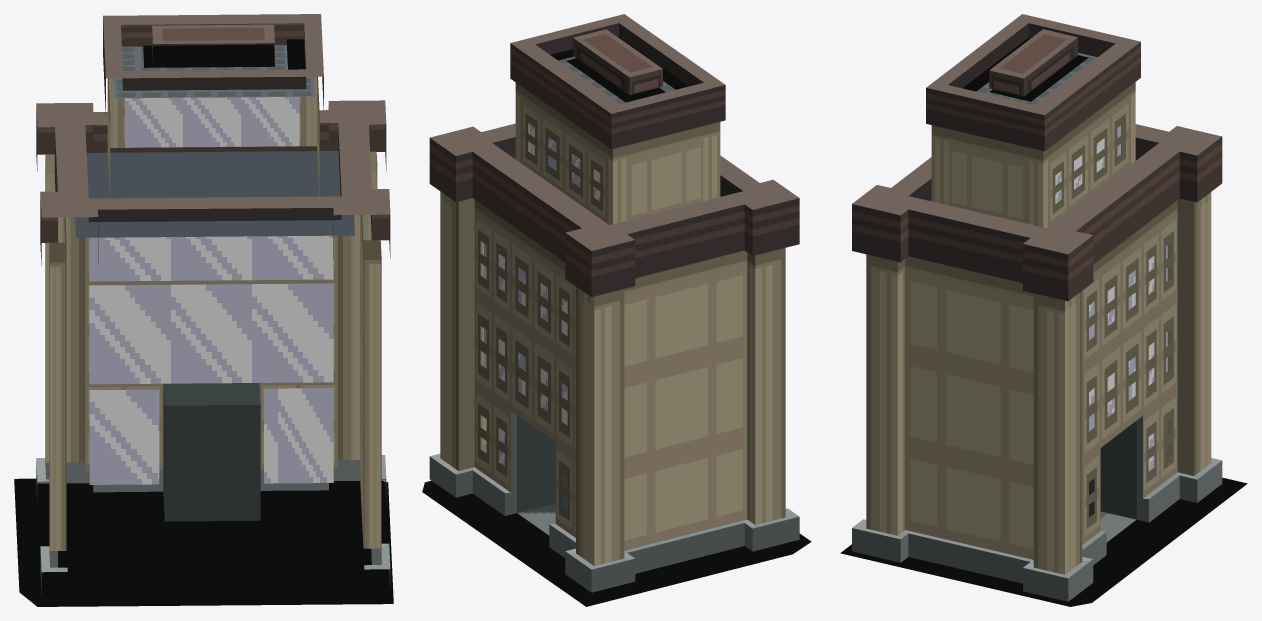
Rendered from jubilife_city_building_3_lev3.glb.
3 views of the same model, side by side, from view 1: azimuth 30°, elevation 25°; view 2: azimuth 150°, elevation 25°; view 3: azimuth 270°, elevation 25° (orthographic). The views are drawn at different scales.
Visible parts, largest first — view 1: jubilife_city_building_3_lev3; view 2: jubilife_city_building_3_lev3; view 3: jubilife_city_building_3_lev3.
Part boxes in pixels (x1,y1,x2,y2): jubilife_city_building_3_lev3: (14, 14, 393, 606); jubilife_city_building_3_lev3: (422, 14, 811, 606); jubilife_city_building_3_lev3: (840, 14, 1247, 606).
Size of the model in its own units: 39.87 by 49.76 by 39.45.
Materials: 3 (3 with a texture image).
